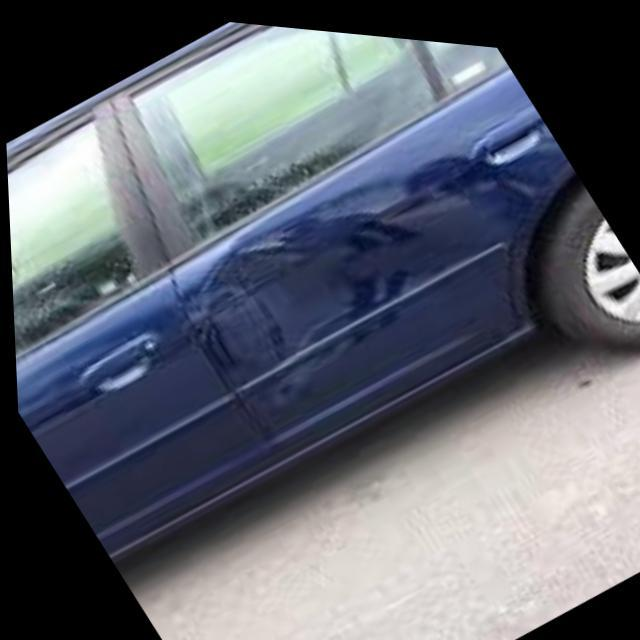dent: (179, 194, 428, 403)
